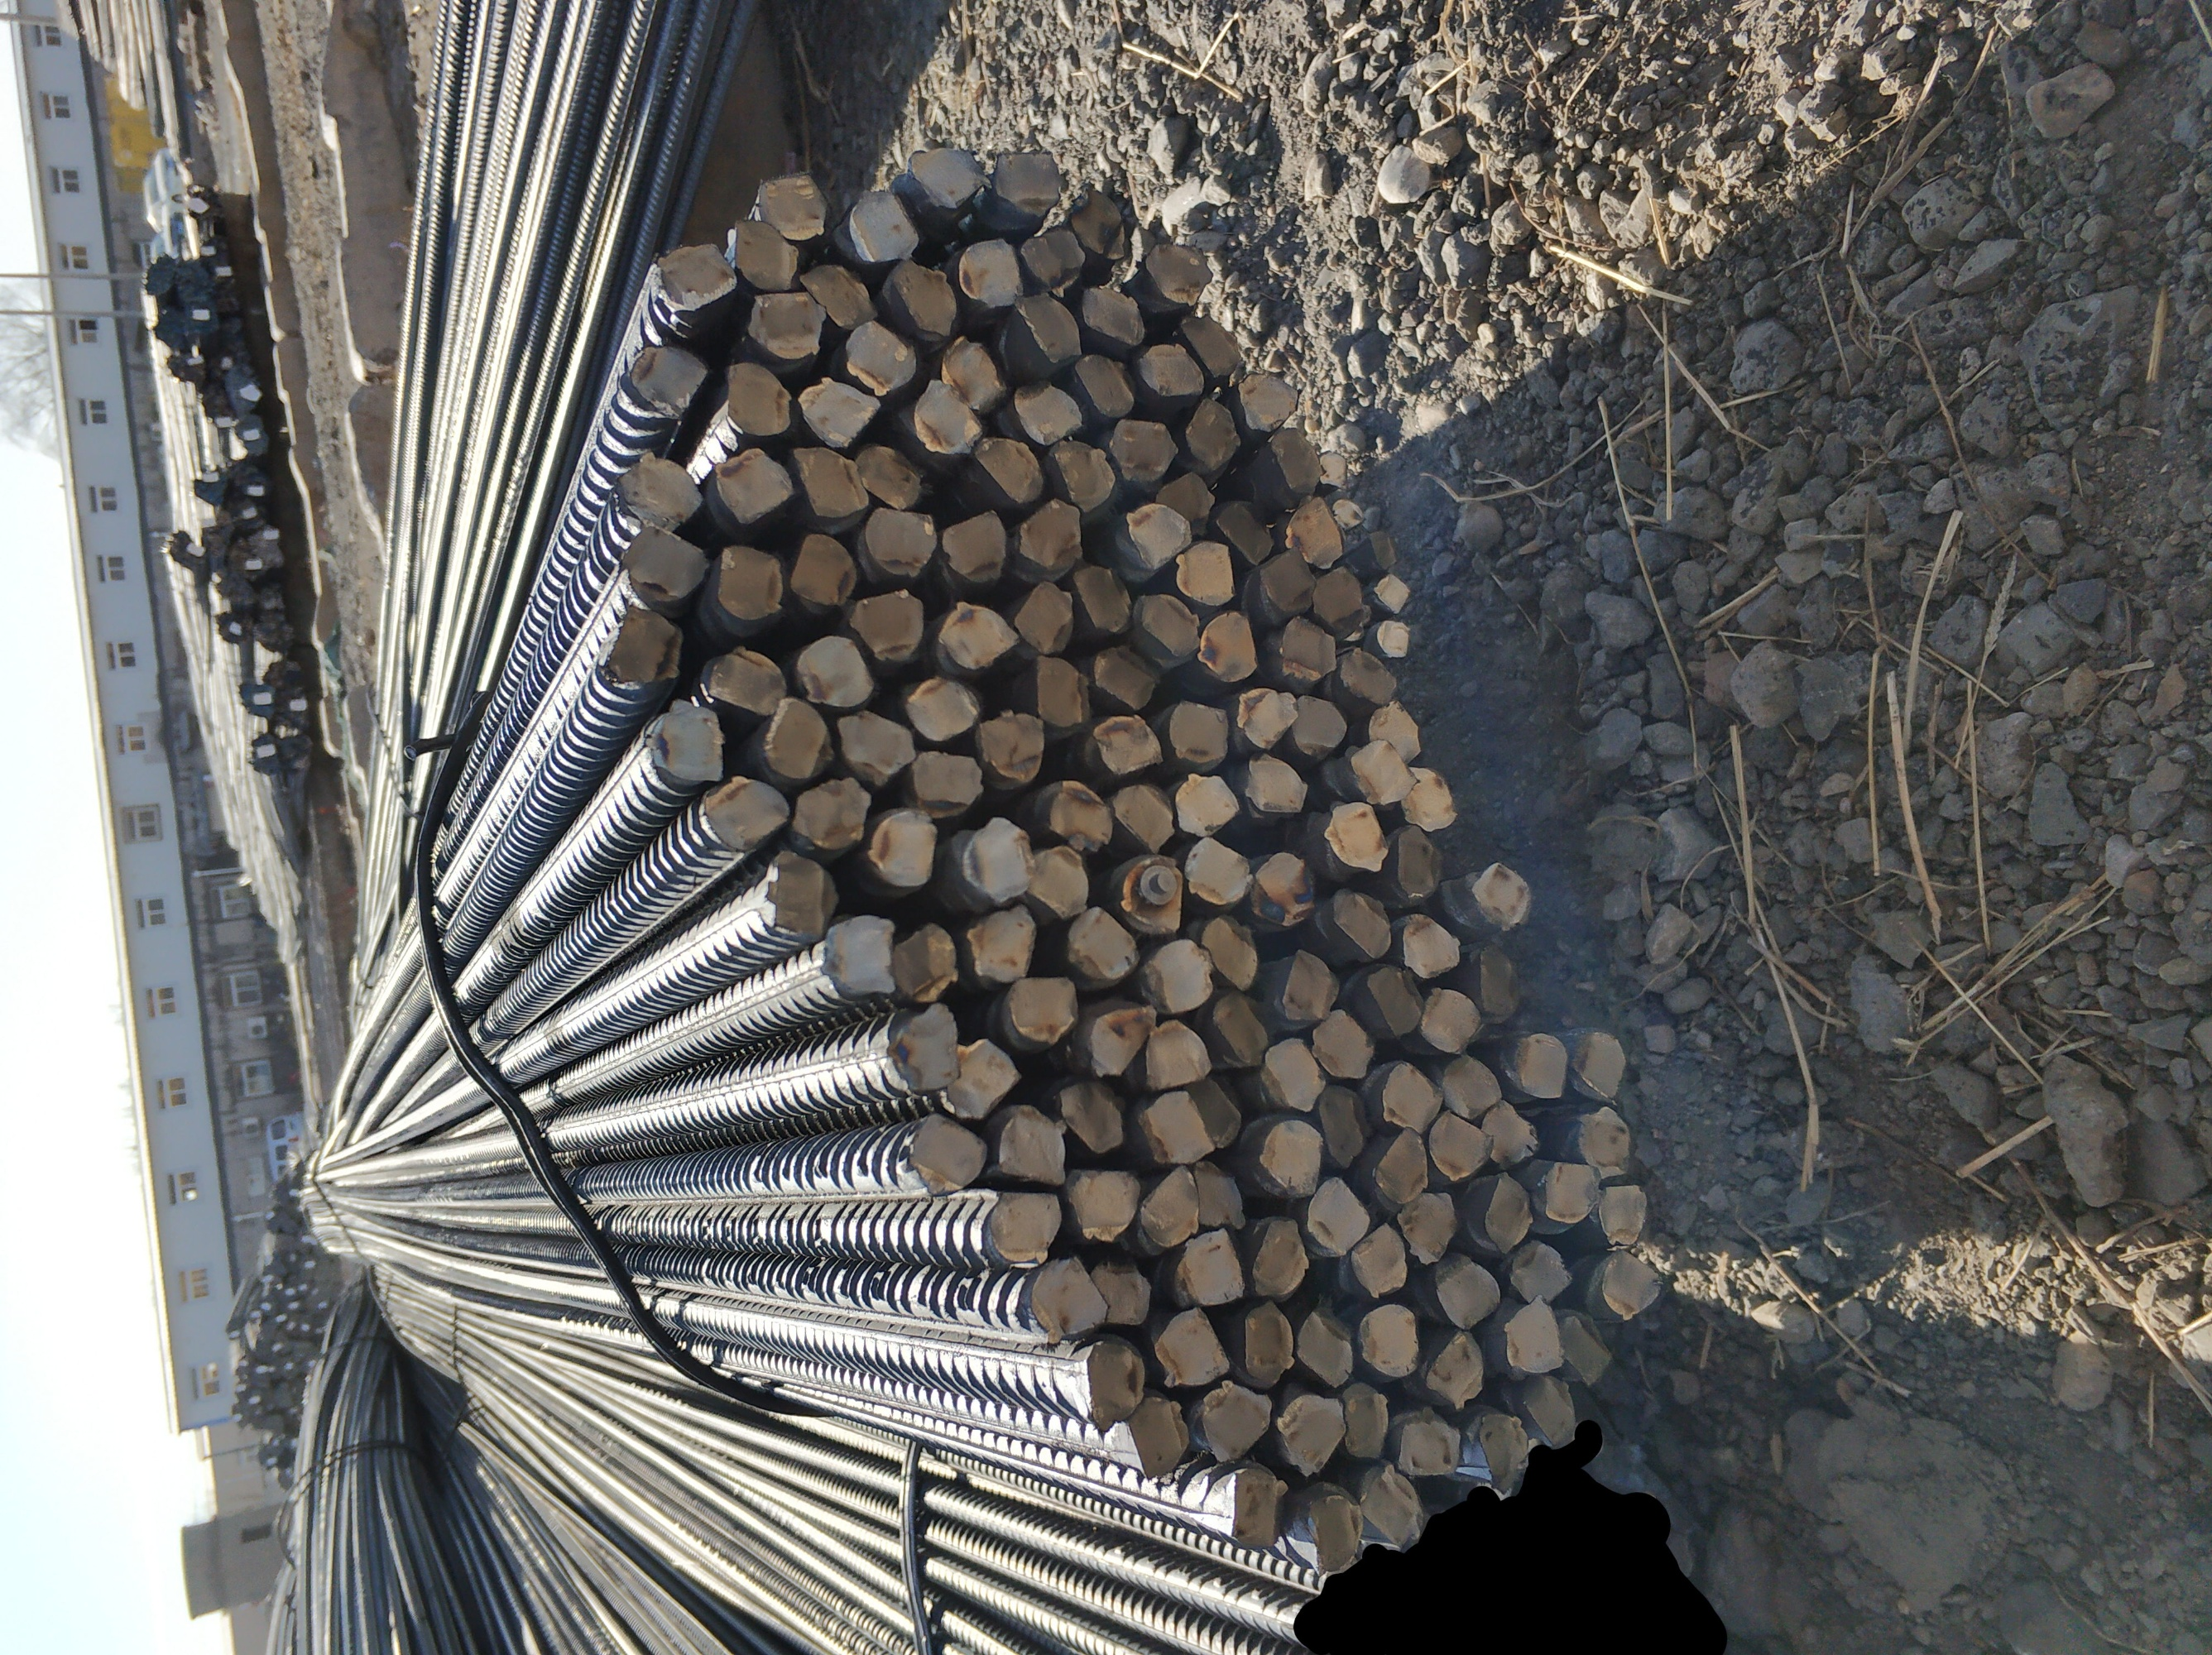rebar: (977, 1102, 1076, 1187), (612, 449, 705, 535), (785, 442, 871, 535), (641, 695, 728, 786), (952, 815, 1036, 909), (619, 522, 711, 605), (1029, 1255, 1112, 1347), (935, 1036, 1023, 1121), (1239, 1114, 1324, 1201), (709, 445, 798, 528), (765, 850, 843, 944), (886, 1001, 964, 1093), (963, 902, 1041, 994), (909, 1111, 989, 1200), (1152, 1302, 1232, 1391), (794, 372, 884, 450), (702, 774, 792, 852), (855, 504, 940, 586), (1083, 1332, 1149, 1436), (697, 643, 789, 718), (836, 708, 917, 791), (1169, 1226, 1249, 1311), (818, 913, 897, 1000), (1289, 1481, 1364, 1572), (761, 694, 836, 784), (791, 774, 872, 855), (1192, 986, 1272, 1069), (608, 602, 686, 687), (1081, 994, 1157, 1081), (1229, 1297, 1298, 1392), (1063, 1166, 1145, 1246), (1135, 1088, 1218, 1166), (1032, 777, 1116, 855), (1274, 1392, 1348, 1479), (1199, 1379, 1274, 1466), (794, 635, 878, 711), (844, 588, 928, 664), (864, 805, 940, 888), (1460, 1170, 1534, 1255), (785, 532, 860, 617), (937, 598, 1023, 671), (1357, 1460, 1427, 1551), (841, 320, 921, 398), (1109, 854, 1185, 935), (627, 342, 711, 417), (796, 261, 883, 332), (890, 918, 959, 1007), (1136, 1160, 1204, 1250), (987, 1189, 1065, 1267), (1187, 913, 1263, 993), (747, 287, 829, 362), (855, 440, 937, 515), (655, 242, 738, 315), (1303, 1173, 1374, 1259), (1293, 1292, 1355, 1387), (1065, 904, 1142, 982), (1140, 937, 1216, 1015), (1244, 1213, 1310, 1304), (888, 257, 961, 339), (905, 748, 987, 821), (844, 188, 921, 264), (912, 377, 985, 457), (902, 673, 983, 744), (904, 146, 994, 210), (1129, 1392, 1194, 1483), (1004, 974, 1081, 1048), (714, 541, 785, 621), (975, 706, 1046, 786), (1500, 1292, 1567, 1375), (1225, 1464, 1289, 1551), (1058, 1080, 1131, 1156), (723, 360, 794, 438), (938, 508, 1010, 586), (1107, 779, 1178, 857), (1249, 848, 1319, 928), (1314, 1083, 1376, 1172), (940, 334, 1008, 415), (1010, 290, 1084, 363), (1013, 497, 1086, 572), (732, 216, 801, 294), (1394, 1189, 1463, 1267), (1550, 1309, 1618, 1389), (973, 433, 1046, 506), (1350, 737, 1423, 810), (1425, 1328, 1487, 1413), (754, 170, 829, 242), (1434, 1257, 1503, 1333), (1258, 1036, 1328, 1113), (1182, 834, 1255, 906), (1143, 1017, 1215, 1090), (1142, 240, 1216, 309), (1011, 379, 1086, 449), (1121, 502, 1195, 572), (1427, 1107, 1496, 1182), (1326, 885, 1394, 961), (1380, 1060, 1447, 1137), (1027, 652, 1095, 728), (992, 151, 1070, 217), (1185, 1073, 1251, 1151), (1011, 577, 1077, 655), (1089, 641, 1161, 713), (956, 236, 1025, 309), (1171, 770, 1244, 840), (1107, 415, 1182, 483), (1308, 1007, 1376, 1081), (1599, 1246, 1665, 1323), (1027, 845, 1093, 921), (1347, 1220, 1411, 1299), (1322, 800, 1390, 873), (1051, 440, 1117, 515), (1194, 608, 1260, 683), (1357, 1302, 1421, 1379), (1277, 947, 1341, 1024), (1373, 1125, 1432, 1206), (1468, 861, 1534, 934), (1070, 560, 1135, 635), (1477, 1097, 1541, 1172), (1364, 965, 1428, 1040), (1089, 713, 1164, 777), (1571, 1102, 1633, 1179), (1475, 1412, 1531, 1497), (1394, 913, 1463, 980), (1089, 1255, 1154, 1328), (1284, 495, 1345, 572), (1468, 942, 1524, 1026), (1018, 224, 1086, 292), (1135, 589, 1202, 657), (1164, 697, 1230, 767), (1418, 984, 1482, 1055), (1154, 469, 1216, 542), (1069, 184, 1128, 261), (1183, 396, 1242, 473), (1171, 541, 1237, 608), (1234, 685, 1301, 751), (1397, 763, 1460, 834), (1510, 1029, 1571, 1102), (1520, 1375, 1580, 1450), (1338, 1380, 1392, 1462), (1176, 313, 1242, 379), (1215, 499, 1279, 567), (1440, 1053, 1505, 1121), (1074, 351, 1136, 421), (1260, 546, 1321, 617), (1390, 822, 1444, 902), (1508, 1241, 1574, 1306), (1395, 1417, 1463, 1479), (1277, 614, 1338, 683), (1190, 1158, 1248, 1231), (1081, 283, 1145, 348), (1336, 645, 1401, 709), (1242, 753, 1308, 815), (1540, 1160, 1600, 1226), (1136, 342, 1206, 400), (1268, 428, 1326, 497), (1576, 1029, 1630, 1102), (1237, 370, 1300, 433), (1289, 694, 1347, 761), (1310, 563, 1368, 629), (1368, 701, 1423, 767), (1599, 1182, 1651, 1248), (1371, 570, 1411, 617), (1374, 619, 1411, 661), (1315, 449, 1350, 492), (1366, 528, 1399, 570), (1329, 497, 1368, 532)
